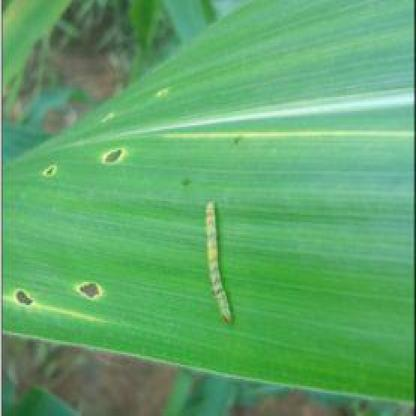armyworm: (198, 201, 240, 327)
